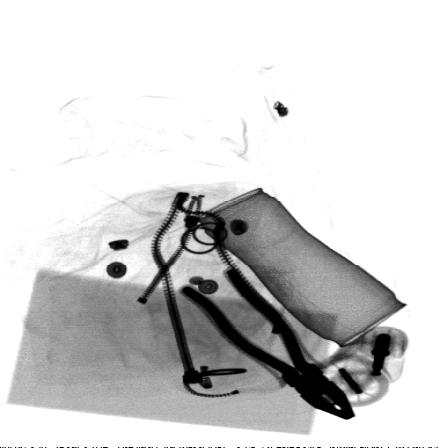Pliers: (175, 263, 358, 422)
